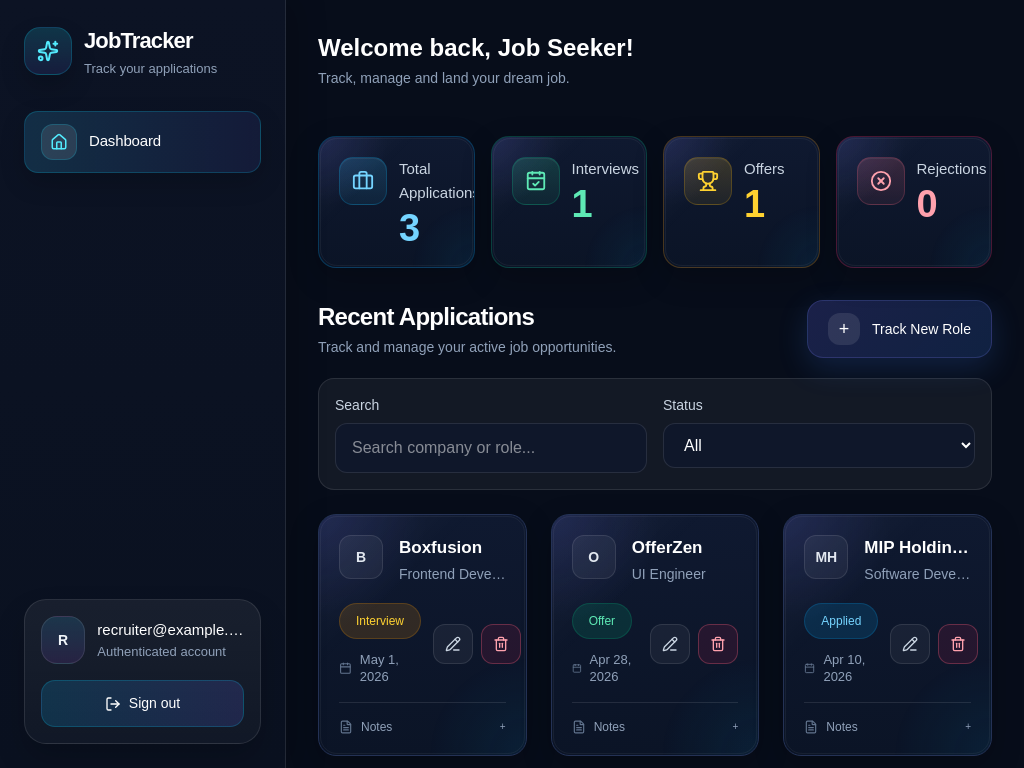
Test case: Dashboard workflows › keeps dashboard stats account-wide while filtering the grid
Expected: the heading "Boxfusion" is shown, [399,538,482,557]
Expected: the text "3" is shown, [399,207,418,249]
Type "OfferZen" into the field with placeholder "Search company or role..." at x=491, y=448, box [335,423,647,473]
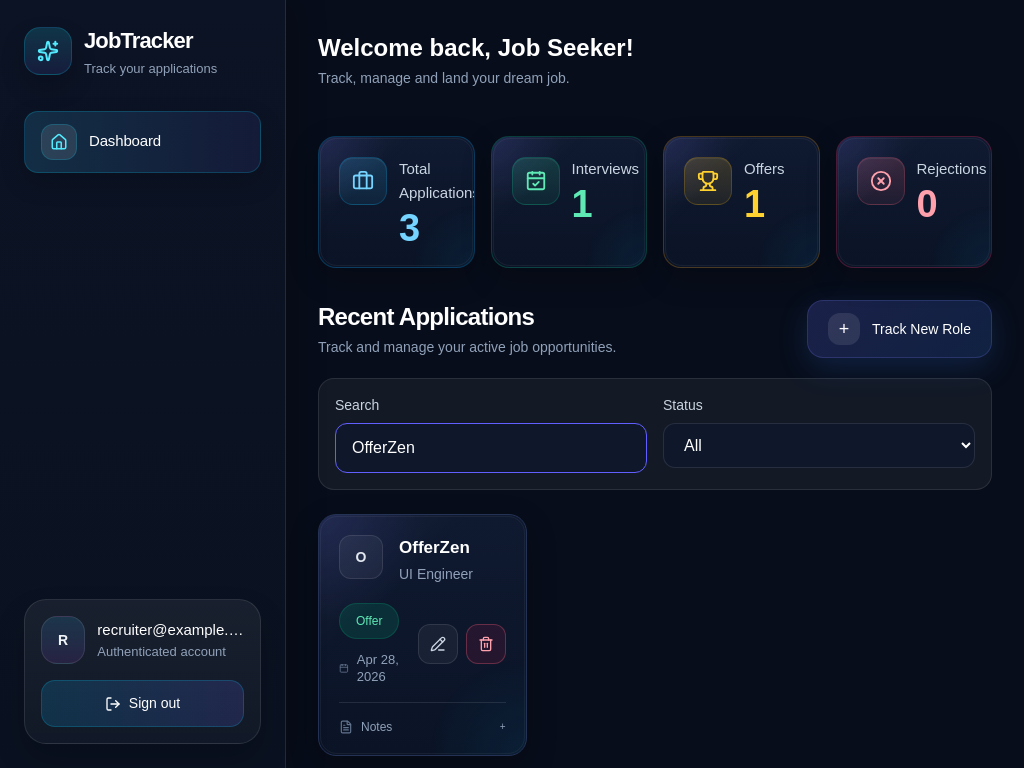
Expected: the heading "OfferZen" is shown, [399,535,473,560]
Expected: the heading "Boxfusion" is gone
Expected: the heading "MIP Holdings" is gone
Clear the field with placeholder "Search company or role..." at x=491, y=448, box [335,423,647,473]
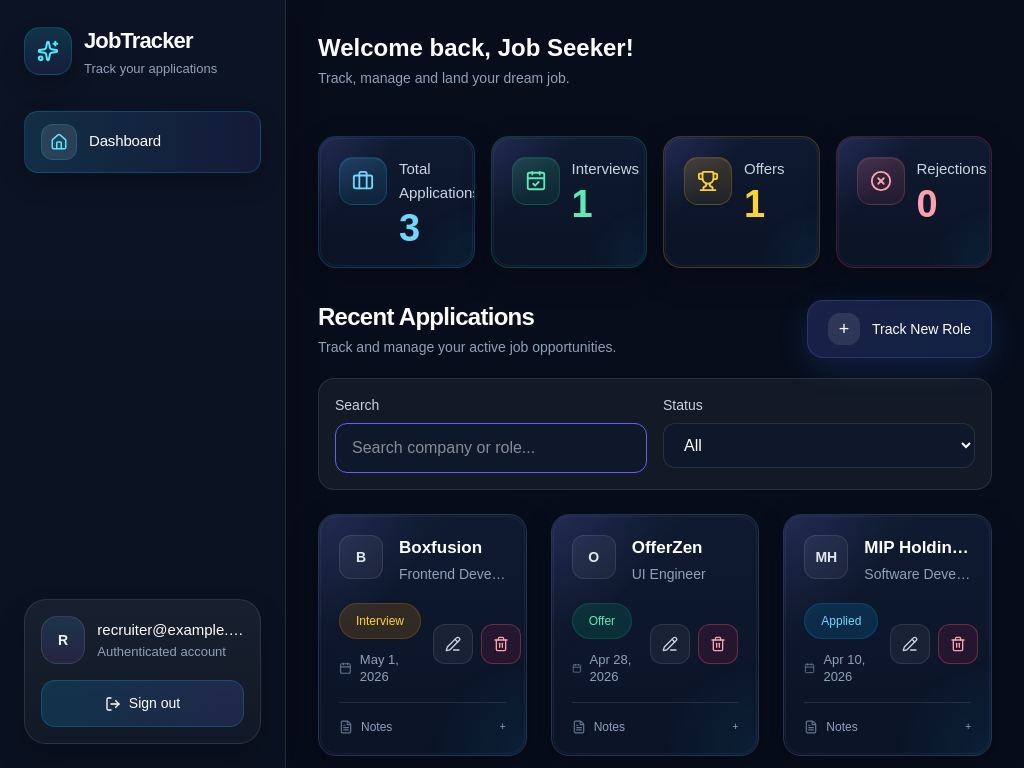
Select "Applied" in the dropdown at x=819, y=446, box [663,423,975,468]
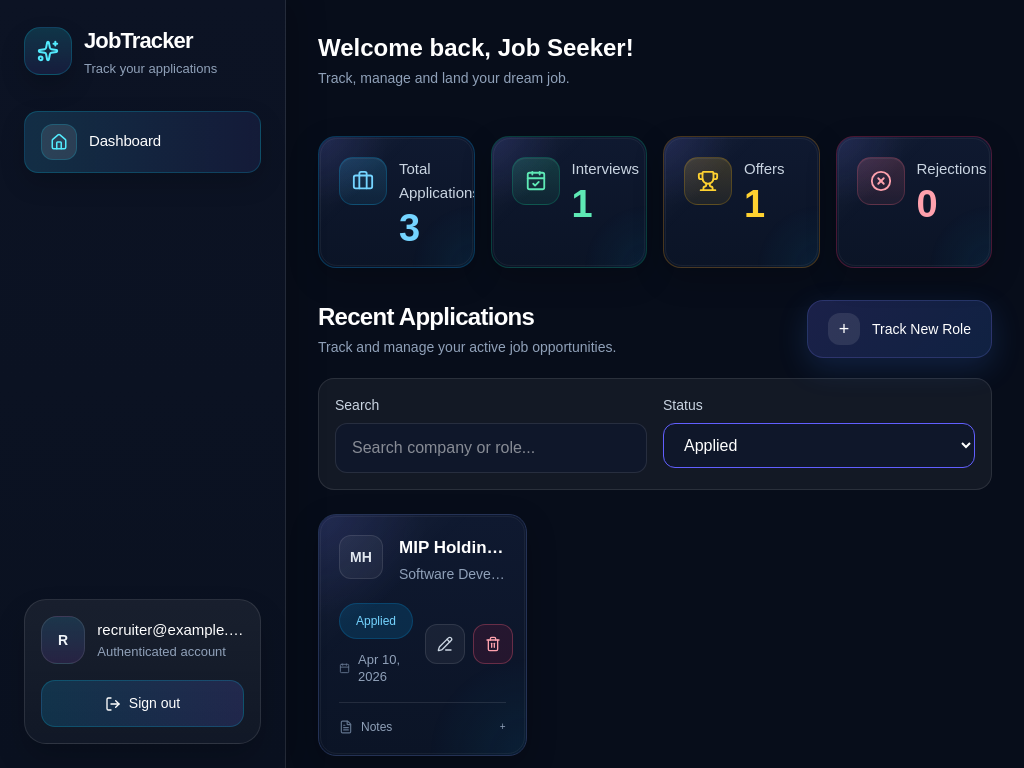
Expected: the heading "MIP Holdings" is shown, [399,535,506,560]
Expected: the heading "Boxfusion" is gone
Expected: the heading "OfferZen" is gone
